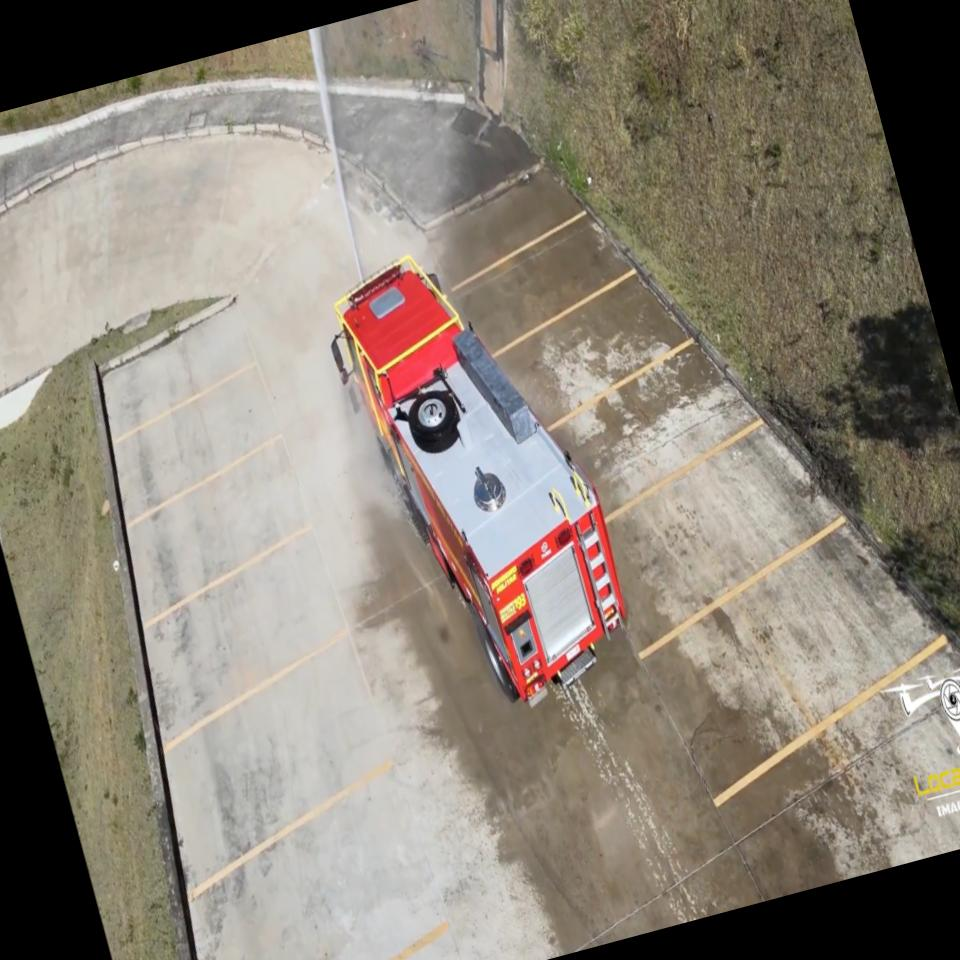viatura: (310, 220, 647, 734)
